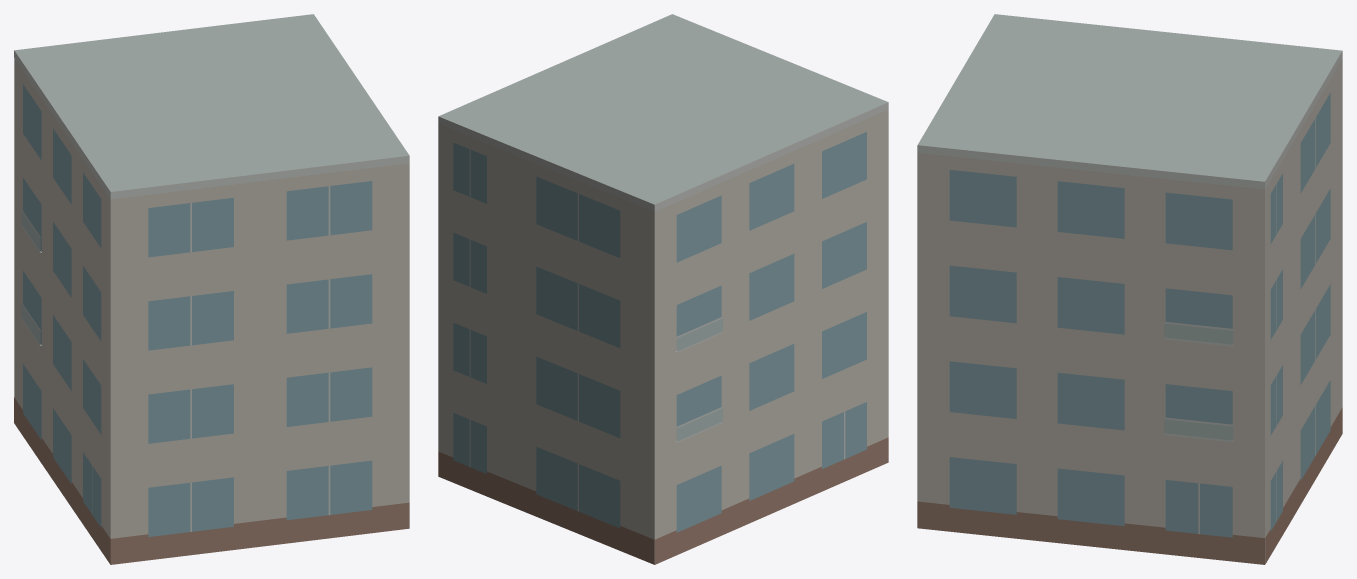
Rendered from residential-66538934-0fff-4949-84da-bce94f1851c8.glb.
The picture shows the model from 3 angles, left to right: view 1: azimuth 30°, elevation 25°; view 2: azimuth 150°, elevation 25°; view 3: azimuth 270°, elevation 25°; orthographic projection. The views are drawn at different scales.
Visible parts, largest first — view 1: residential-66538934-0fff-4949-84da-bce94f1851c8.tmp; view 2: residential-66538934-0fff-4949-84da-bce94f1851c8.tmp; view 3: residential-66538934-0fff-4949-84da-bce94f1851c8.tmp.
Part boxes in pixels (x1,y1,x2,y2): residential-66538934-0fff-4949-84da-bce94f1851c8.tmp: [14, 14, 409, 564]; residential-66538934-0fff-4949-84da-bce94f1851c8.tmp: [438, 14, 888, 564]; residential-66538934-0fff-4949-84da-bce94f1851c8.tmp: [917, 14, 1342, 564].
Size of the model in its own units: 11.47 by 12.2 by 12.28.
